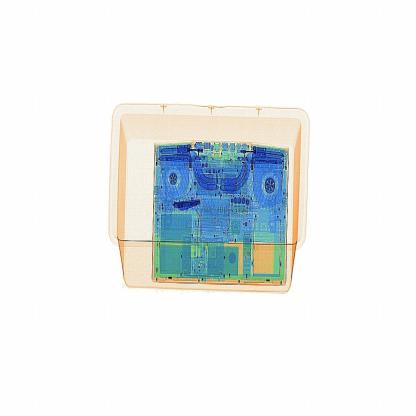knife: (169, 186, 208, 223)
